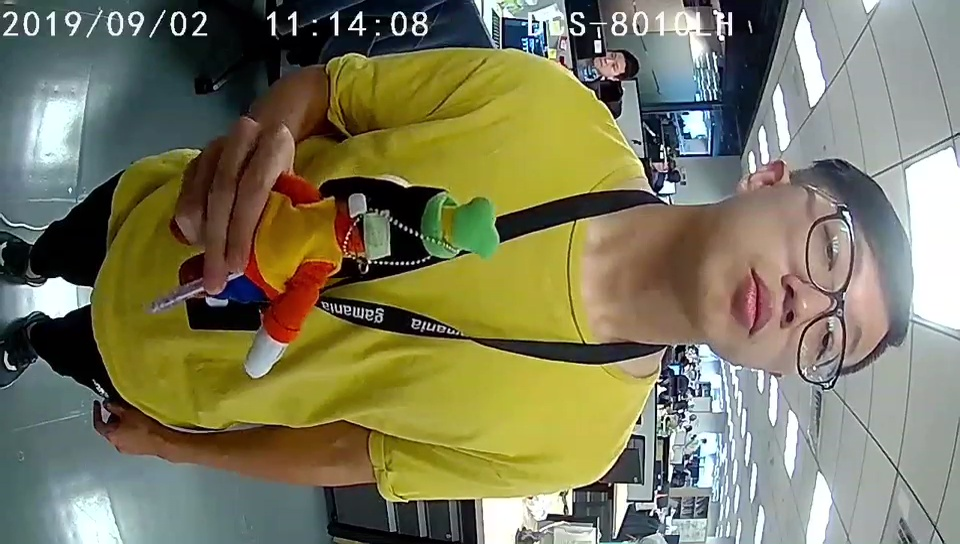goofy: (245, 192, 499, 380)
